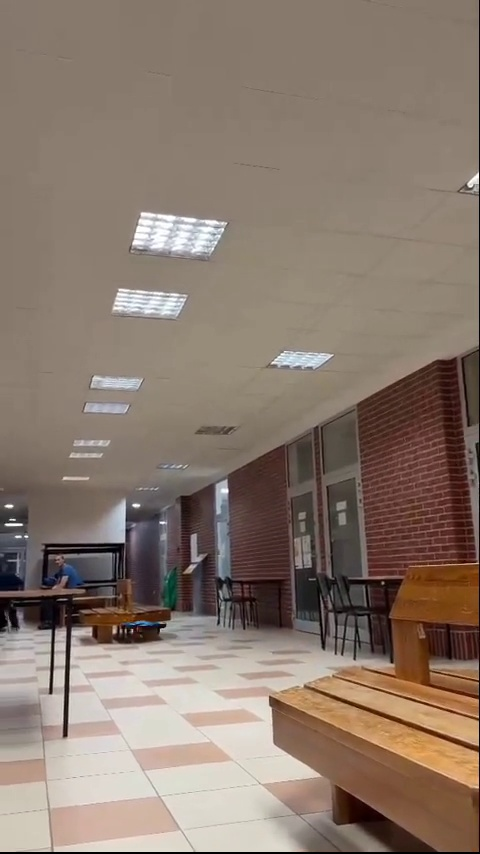drone: (122, 617, 171, 638)
no vest: (42, 547, 84, 608)
